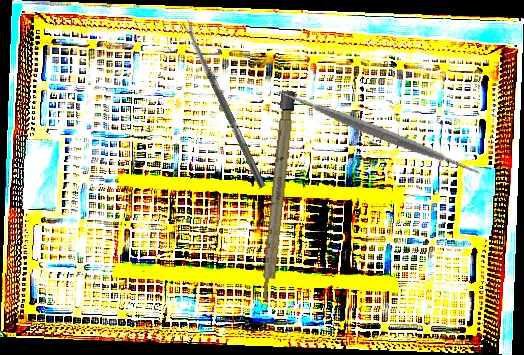Scalpel Handle: (259, 90, 296, 304)
Spatula Surgical: (274, 26, 484, 238)
Surgical Spoon: (182, 19, 267, 189)
